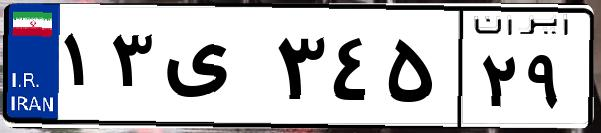1: (57, 26, 110, 100)
2: (475, 38, 525, 113)
3: (270, 28, 330, 110), (110, 28, 158, 98)
4: (330, 28, 385, 110)
5: (385, 28, 445, 110)
9: (525, 38, 570, 115)
ی: (158, 20, 270, 120)
